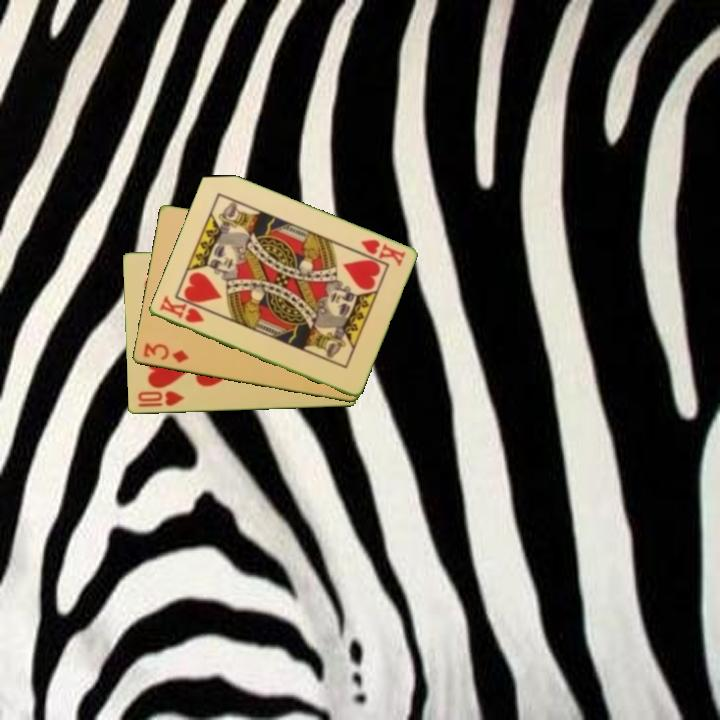10h: (134, 388, 187, 410)
3d: (139, 339, 191, 366)
Kh: (156, 293, 207, 326), (357, 236, 408, 269)
